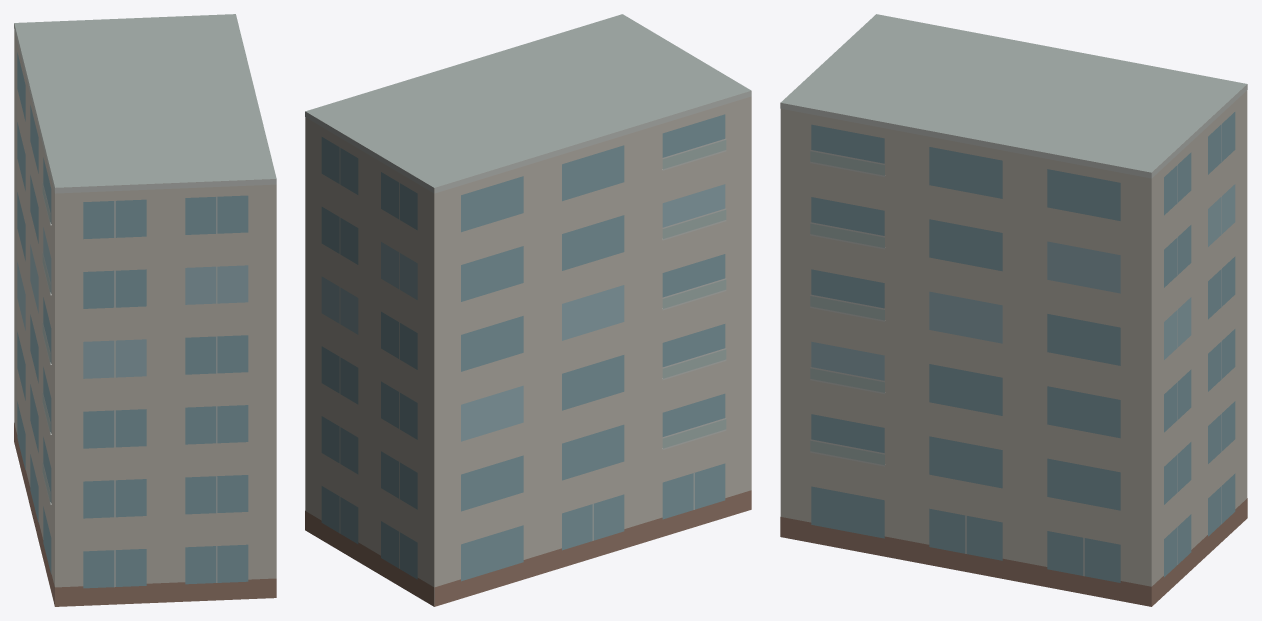
The model's file is survey-upis-32903029.glb.
3 views of the same model, side by side, from view 1: azimuth 30°, elevation 25°; view 2: azimuth 150°, elevation 25°; view 3: azimuth 270°, elevation 25° (orthographic). The views are drawn at different scales.
Visible parts, largest first — view 1: survey-upis-32903029.tmp; view 2: survey-upis-32903029.tmp; view 3: survey-upis-32903029.tmp.
Part boxes in pixels (box(x1,y1,x2,y2)): survey-upis-32903029.tmp: box(14, 14, 276, 606); survey-upis-32903029.tmp: box(305, 14, 751, 606); survey-upis-32903029.tmp: box(780, 14, 1247, 606).
Bounding box in the file's own units: 14.03 × 17.9 × 17.46.
